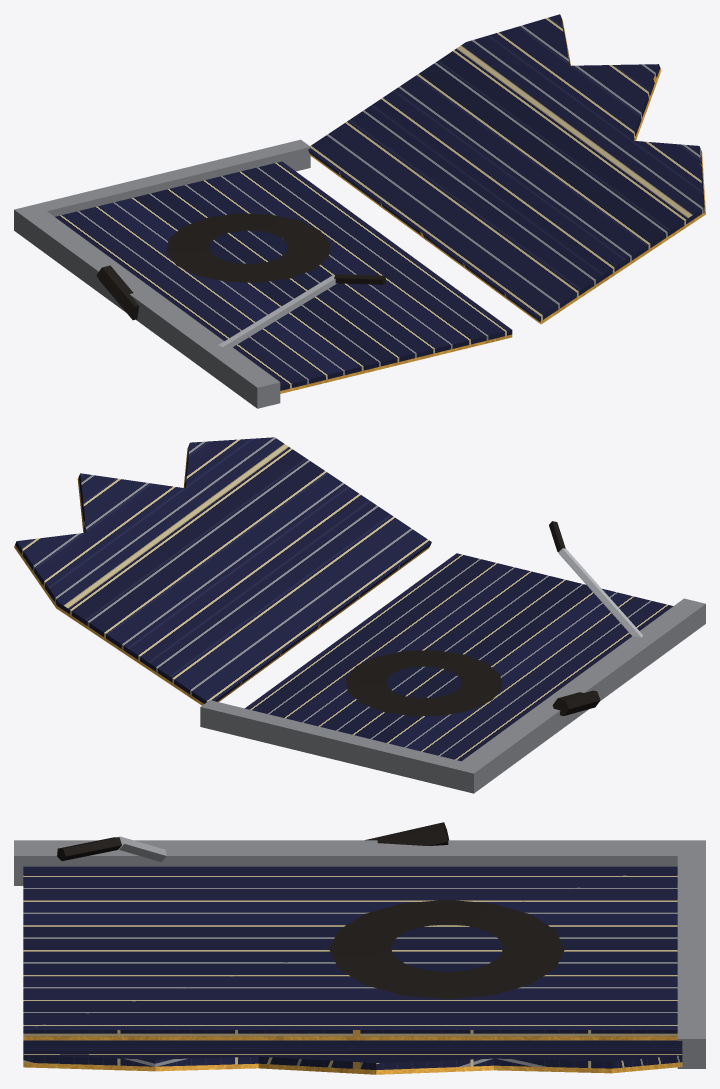
Rendered from debris_panel.obj.
3 renders of one model, top to bottom at view 1: azimuth 30°, elevation 25°; view 2: azimuth 150°, elevation 25°; view 3: azimuth 270°, elevation 25°, orthographic. The views are drawn at different scales.
Parts seen in each view (by area): view 1: debris_panel; view 2: debris_panel; view 3: debris_panel.
Boxes of the visible parts, box(x1,y1,x2,y2) form: debris_panel: box(14, 14, 705, 408); debris_panel: box(14, 437, 705, 793); debris_panel: box(14, 822, 705, 1074).
Bounding box in the file's own units: 1.94 × 0.4198 × 1.52.
5 materials, 2 textured.
